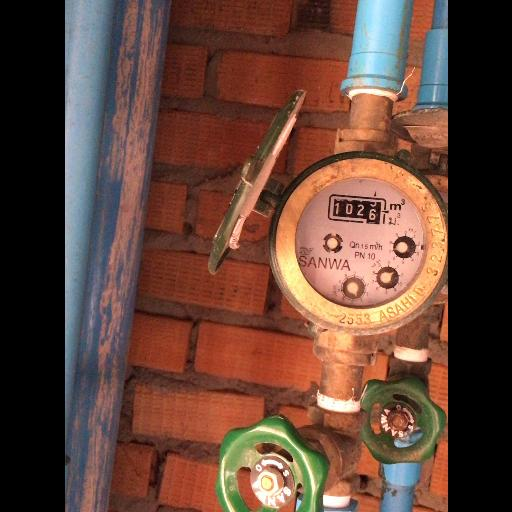0: (344, 200, 355, 219)
1: (332, 198, 343, 216)
2: (354, 201, 366, 220)
6: (367, 202, 380, 225)
border_water_meter_number: (327, 194, 390, 225)
